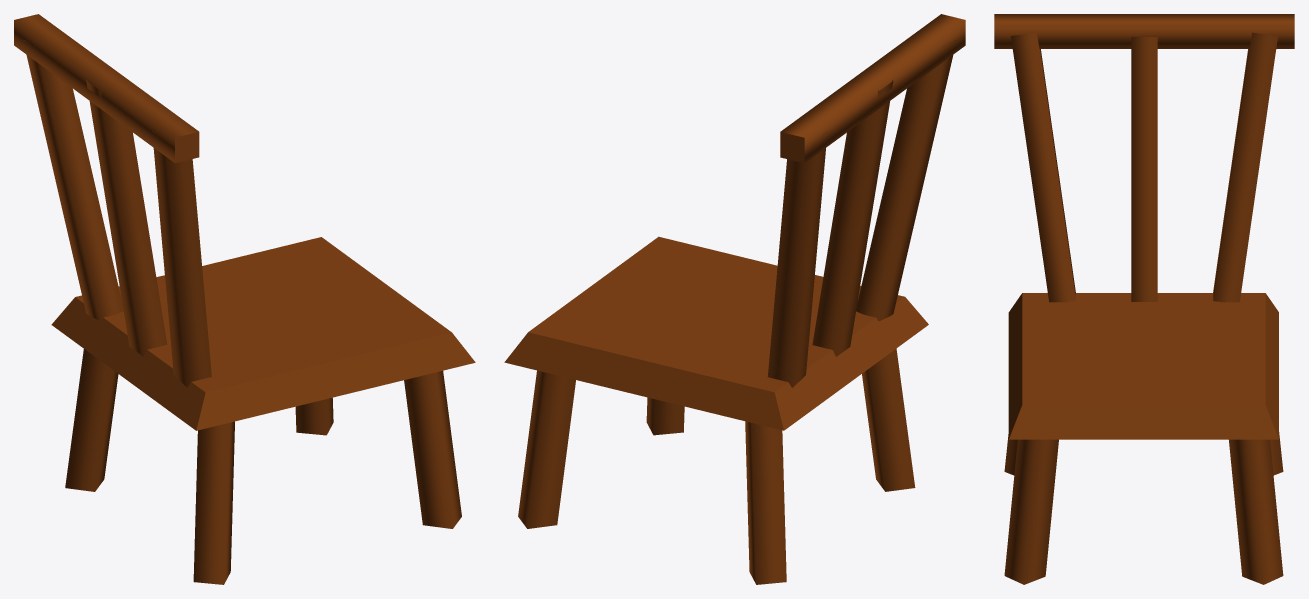
File: стул.fbx
The picture shows the model from 3 angles, left to right: view 1: azimuth 30°, elevation 25°; view 2: azimuth 150°, elevation 25°; view 3: azimuth 270°, elevation 25°; orthographic projection. The views are drawn at different scales.
Visible parts, largest first — view 1: стул; view 2: стул; view 3: стул.
Boxes of the visible parts, x1,y1,x2,y2 form: стул: (14,14,475,584); стул: (504,14,965,584); стул: (994,14,1294,584).
Size of the model in its own units: 66.25 by 94.91 by 59.61.
